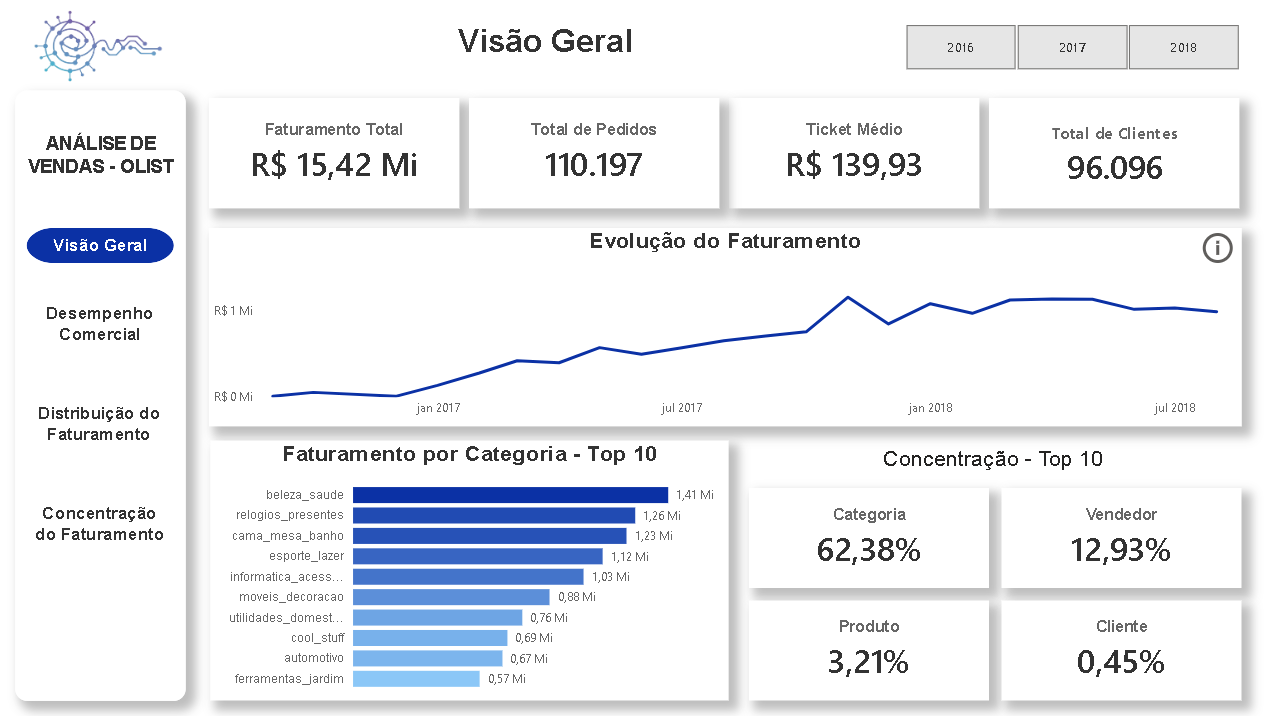

This screenshot's page, from the dashboard's own definition file:
{"tool":"powerbi","page":{"name":"Visão Geral","canvas":[1280,720],"ordinal":0},"visuals":[{"type":"image","box":[27.5,8.8,143.8,78.8],"z":0},{"type":"shape","box":[16.2,92.5,170,610],"z":1000},{"type":"actionButton","box":[27.5,230,147.5,35],"z":2000},{"type":"actionButton","box":[26.2,400,147.5,56.2],"z":3000},{"type":"actionButton","box":[27.5,500,146.2,57.5],"z":4000},{"type":"actionButton","box":[21.9,110,158.8,95],"z":5000},{"type":"cardVisual","fields":{"Data":["Medidas.Total_vendas"]},"box":[210,100,250,110.1],"z":6000},{"type":"cardVisual","fields":{"Data":["ticket_medio.ticket_medio"]},"box":[730,100,250,110],"z":7000},{"type":"slicer","fields":{"Values":["dim_date.date_key.Variation.Hierarquia de datas.Ano"]},"box":[880.8,20,382.5,58.3],"z":8000},{"type":"textbox","box":[211.4,20,670,58.6],"z":9000},{"type":"cardVisual","fields":{"Data":["Medidas.total_pedidos"]},"box":[470,100,250,110],"z":10000},{"type":"cardVisual","fields":{"Data":["Count(dim_customers.customer_id)"]},"box":[990,100,250,110],"z":11000},{"type":"lineChart","title":"Evolução do Faturamento","fields":{"Y":["ticket_medio.total_vendas"],"Category":["dim_date.date_key.Variation.Hierarquia de datas.Ano","dim_date.date_key.Variation.Hierarquia de datas.Mês"]},"box":[210,230,1032.9,198.6],"z":12000},{"type":"barChart","title":"Faturamento por Categoria - Top 10","fields":{"Category":["dim_products.category_name"],"Y":["Medidas.total_vendas"]},"box":[211.4,442.9,518.6,260],"z":13000},{"type":"cardVisual","fields":{"Data":["Medidas.% Top 10 Categorias"]},"box":[750,490,240,100],"z":14000},{"type":"cardVisual","fields":{"Data":["Medidas.% Top 10 Vendedores"]},"box":[1002.9,490,240,100],"z":15000},{"type":"cardVisual","fields":{"Data":["Medidas.% Top 10 Produtos"]},"box":[750,602.9,240,100],"z":16000},{"type":"cardVisual","fields":{"Data":["Medidas.% Top 10 Clientes"]},"box":[1002.9,602.9,240,100],"z":17000},{"type":"actionButton","box":[27.5,300,146.2,56.2],"z":18000},{"type":"textbox","box":[872.9,442.9,242.9,38.6],"z":19000},{"type":"actionButton","box":[1198.6,230,44.3,40],"z":20000}]}

Visuals, with their boxes in screenshot pixels (x1, y1, x2, y2), scaled from the page's 1280x720 canvas onto the 1278x716 screenshot:
image: crop(27, 9, 171, 87)
shape: crop(16, 92, 186, 699)
actionButton: crop(27, 229, 175, 264)
actionButton: crop(26, 398, 173, 454)
actionButton: crop(27, 497, 173, 554)
actionButton: crop(22, 109, 180, 204)
cardVisual - Medidas.Total_vendas: crop(210, 99, 459, 209)
cardVisual - ticket_medio.ticket_medio: crop(729, 99, 978, 209)
slicer - dim_date.date_key.Variation.Hierarquia de datas.Ano: crop(879, 20, 1261, 78)
textbox: crop(211, 20, 880, 78)
cardVisual - Medidas.total_pedidos: crop(469, 99, 719, 209)
cardVisual - Count(dim_customers.customer_id): crop(988, 99, 1238, 209)
"Evolução do Faturamento" lineChart: crop(210, 229, 1241, 426)
"Faturamento por Categoria - Top 10" barChart: crop(211, 440, 729, 699)
cardVisual - Medidas.% Top 10 Categorias: crop(749, 487, 988, 587)
cardVisual - Medidas.% Top 10 Vendedores: crop(1001, 487, 1241, 587)
cardVisual - Medidas.% Top 10 Produtos: crop(749, 600, 988, 699)
cardVisual - Medidas.% Top 10 Clientes: crop(1001, 600, 1241, 699)
actionButton: crop(27, 298, 173, 354)
textbox: crop(872, 440, 1114, 479)
actionButton: crop(1197, 229, 1241, 268)
